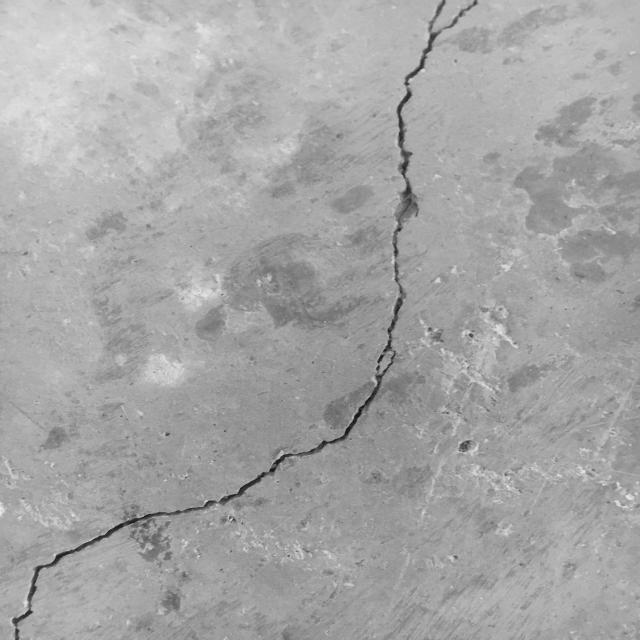SurfaceCrack: (2, 1, 494, 640)
